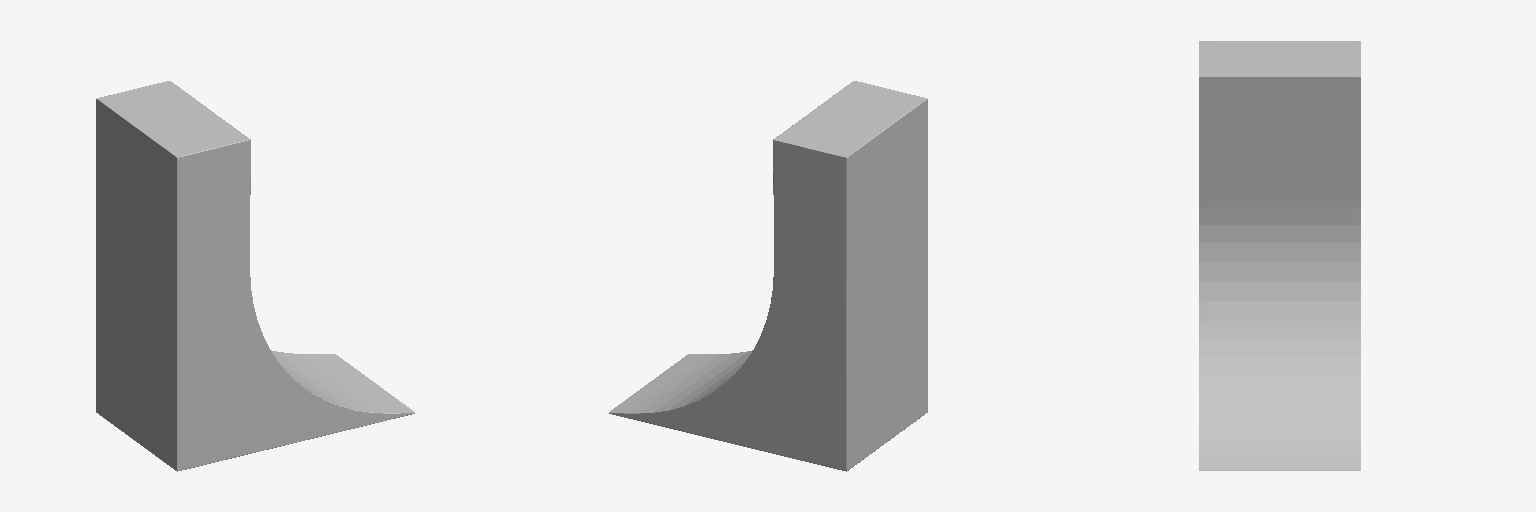
Rendered from WarpedWall2.obj.
The picture shows the model from 3 angles: view 1: azimuth 30°, elevation 25°; view 2: azimuth 150°, elevation 25°; view 3: azimuth 270°, elevation 25°; orthographic projection.
Visible parts, largest first — view 1: warpedwall; view 2: warpedwall; view 3: warpedwall.
Boxes of the visible parts, <box> form: warpedwall: <box>96,81,414,471</box>; warpedwall: <box>609,81,927,471</box>; warpedwall: <box>1199,41,1360,470</box>.
Bounding box in the file's own units: 1.31 × 1.65 × 0.7694.